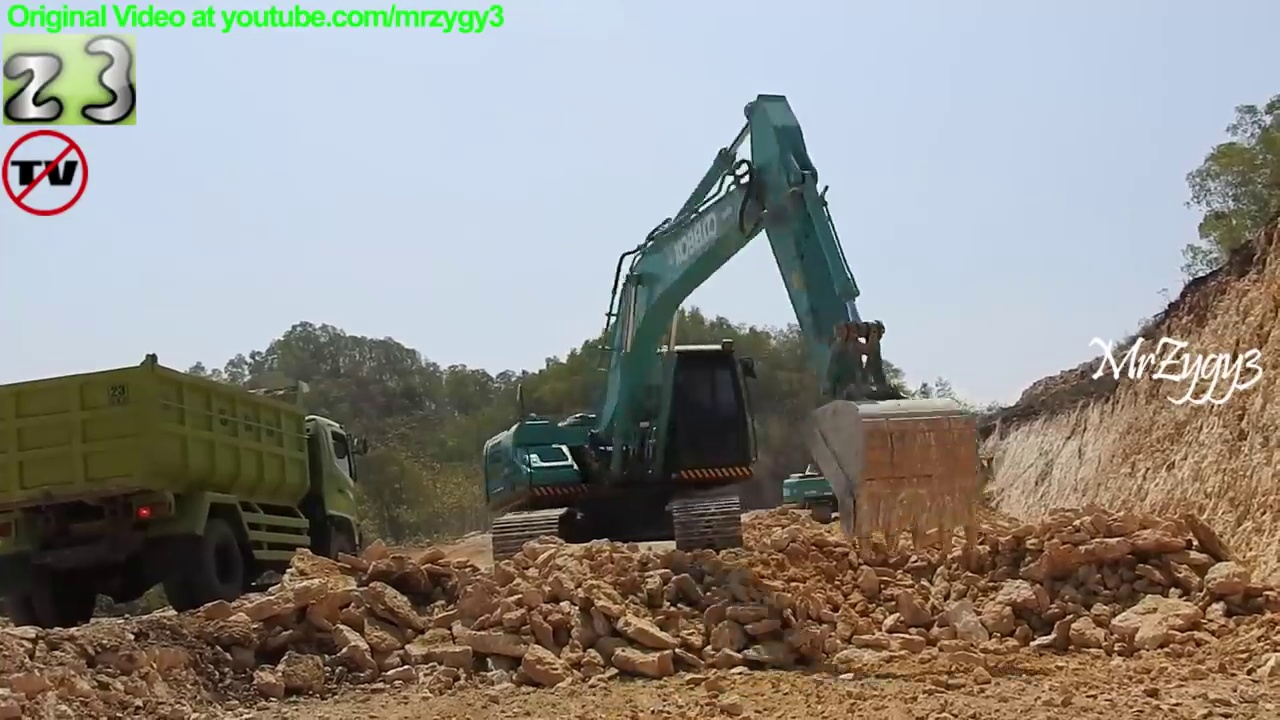excavator: (478, 89, 989, 589), (777, 383, 1006, 527)
truck: (1, 351, 375, 637)
